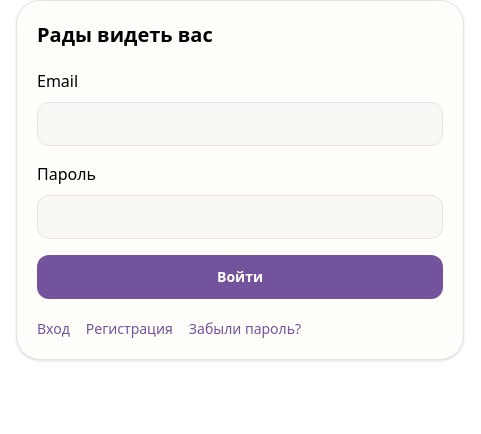
Scenario: auth errors are translated and network errors permit retry
Type "anna@example.test" into the field labelled "Email" at (240, 124), box x1=37 y1=102 x2=443 y2=146
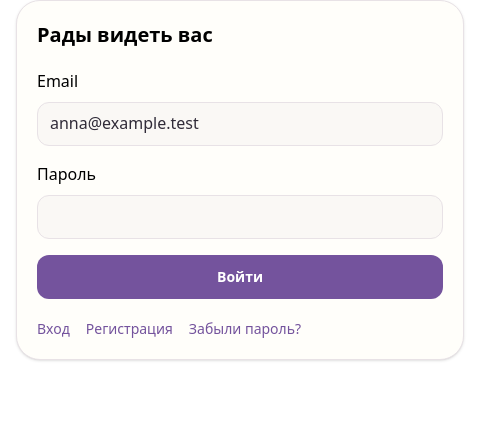
Type "wrong" into the password field labelled "Пароль" at (240, 217), box x1=37 y1=195 x2=443 y2=239
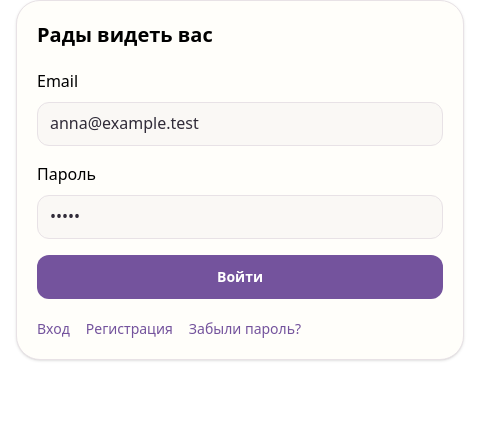
Click the button "Войти" at (240, 277), box x1=37 y1=255 x2=443 y2=299
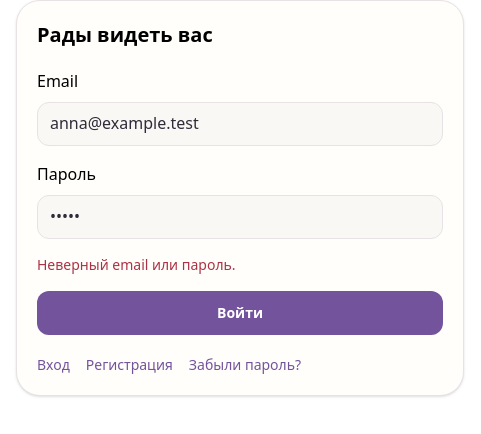
Now the message shows "Неверный email или пароль", box x1=37 y1=255 x2=236 y2=274
Click the button "Войти" at (240, 313), box x1=37 y1=291 x2=443 y2=335
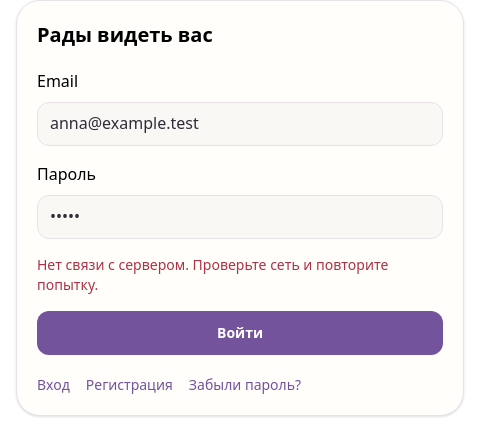
Now the message shows "Нет связи с сервером", box x1=37 y1=255 x2=388 y2=294
